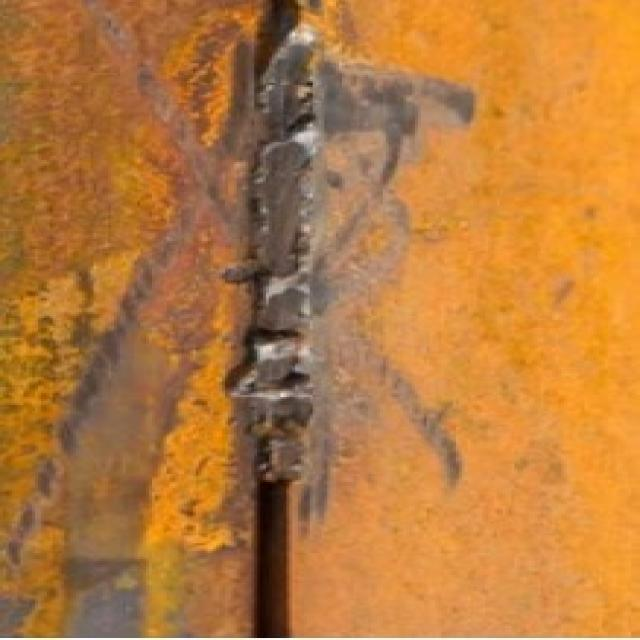Bad Welding: (228, 0, 324, 622)
